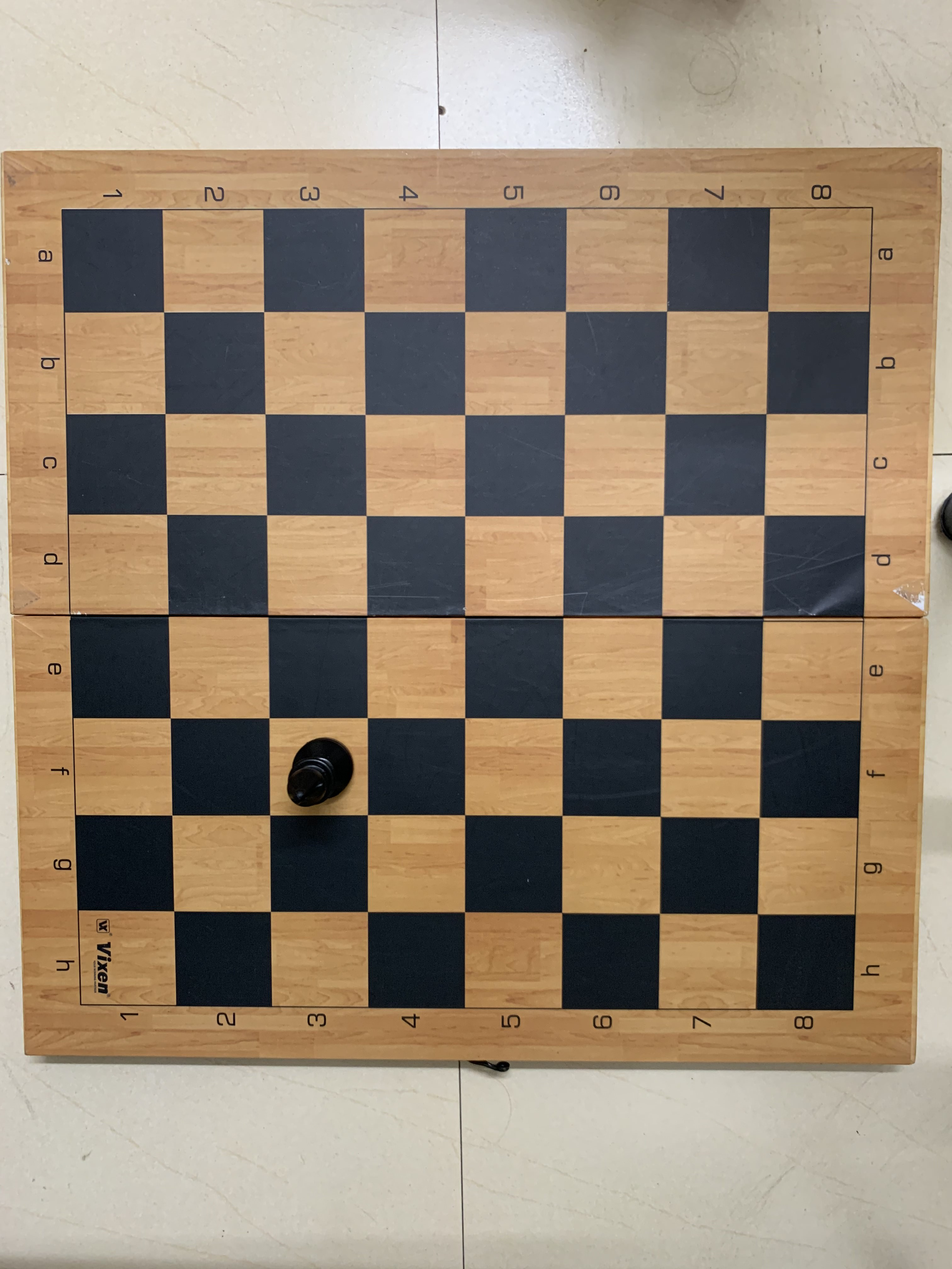black_bishop: (266, 713, 365, 820)
